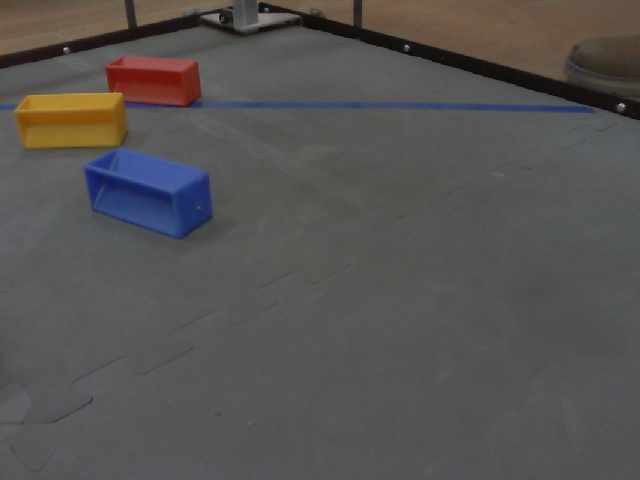BlueSample: (81, 143, 219, 240)
RedSample: (103, 52, 202, 110)
YellowSample: (12, 90, 132, 151)
